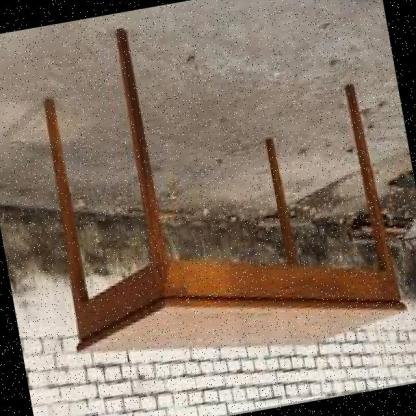Table: (15, 0, 416, 393)
